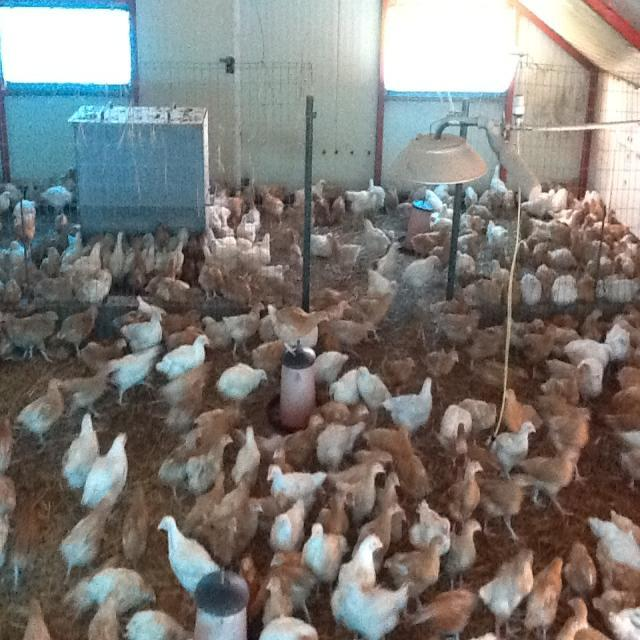poussin: (331, 531, 411, 638), (64, 565, 162, 623), (156, 514, 220, 598), (363, 418, 431, 496), (478, 546, 536, 636), (57, 500, 120, 580), (520, 550, 568, 640), (383, 534, 453, 594), (521, 446, 581, 516), (6, 496, 48, 592), (348, 501, 406, 570), (80, 433, 130, 512), (11, 378, 69, 446), (2, 300, 65, 362), (163, 358, 217, 429), (183, 429, 235, 502), (476, 470, 529, 540), (268, 547, 316, 624), (248, 414, 326, 461), (408, 587, 480, 637), (552, 405, 596, 485), (302, 520, 350, 592), (268, 302, 332, 356), (156, 428, 202, 503), (108, 343, 164, 404), (64, 410, 105, 493), (440, 518, 488, 588), (585, 506, 640, 565), (258, 458, 328, 504), (488, 418, 537, 481), (445, 456, 483, 534), (120, 477, 154, 564), (222, 491, 270, 552), (310, 420, 367, 471), (516, 319, 562, 382), (383, 374, 437, 426), (110, 302, 166, 352), (319, 312, 379, 358), (194, 509, 242, 565), (344, 288, 399, 336), (270, 495, 316, 552), (597, 557, 640, 617), (185, 470, 228, 530), (467, 317, 513, 373), (607, 407, 640, 485), (222, 298, 266, 356), (428, 307, 488, 349), (194, 400, 244, 450), (346, 462, 389, 520), (210, 468, 256, 522), (226, 423, 266, 484), (553, 596, 608, 640), (78, 332, 134, 375), (160, 331, 210, 379), (161, 306, 211, 354), (475, 359, 532, 401), (216, 364, 270, 408), (56, 304, 101, 356), (498, 388, 548, 434), (64, 367, 108, 418), (126, 232, 160, 298), (410, 502, 454, 552), (564, 538, 598, 600), (124, 612, 199, 640), (355, 362, 395, 413), (421, 346, 462, 395), (239, 228, 272, 288), (73, 232, 109, 286), (434, 421, 472, 471), (88, 589, 124, 640), (37, 262, 80, 304), (236, 553, 266, 613), (542, 359, 584, 400), (530, 240, 582, 273), (374, 472, 408, 522), (319, 485, 353, 535), (0, 473, 18, 567), (316, 397, 372, 427), (456, 396, 496, 438), (144, 264, 186, 304), (380, 353, 418, 397), (310, 343, 350, 384), (74, 264, 115, 304), (58, 227, 96, 270), (518, 213, 569, 244), (526, 182, 572, 216), (438, 398, 473, 442), (359, 215, 394, 259), (251, 338, 291, 376), (292, 172, 332, 210), (613, 356, 640, 412), (508, 316, 544, 358), (400, 254, 442, 290), (329, 364, 363, 408), (106, 228, 129, 292), (565, 335, 609, 368), (208, 226, 242, 268), (20, 593, 50, 640), (262, 576, 292, 623), (332, 234, 364, 278), (210, 188, 244, 229), (360, 270, 400, 304), (606, 314, 636, 359), (204, 307, 233, 353), (564, 336, 608, 366), (602, 270, 640, 304), (469, 268, 503, 306), (576, 356, 606, 398), (606, 604, 640, 640), (482, 220, 514, 258), (0, 416, 19, 479), (0, 242, 31, 280), (165, 234, 192, 277), (41, 180, 73, 216), (566, 228, 598, 263), (260, 182, 288, 222), (316, 295, 352, 326), (12, 200, 38, 242), (550, 270, 580, 306), (198, 264, 227, 300), (0, 178, 23, 220), (518, 268, 542, 308), (258, 256, 288, 288), (0, 272, 29, 305), (588, 237, 612, 276), (349, 188, 378, 220), (196, 236, 222, 271), (36, 244, 62, 279), (362, 178, 387, 212), (534, 260, 554, 302), (238, 202, 258, 244), (152, 233, 172, 275), (585, 307, 610, 339), (604, 210, 629, 242), (308, 232, 337, 259), (578, 186, 604, 216), (426, 180, 452, 210), (452, 244, 474, 278), (613, 248, 635, 280), (312, 186, 330, 224), (577, 272, 598, 304), (620, 232, 640, 265), (455, 228, 483, 251), (488, 258, 509, 288), (497, 187, 518, 217), (502, 270, 519, 306), (458, 212, 488, 232), (413, 232, 443, 252), (581, 212, 604, 236), (328, 192, 347, 220), (469, 200, 496, 218), (429, 214, 453, 234), (516, 240, 534, 266), (438, 202, 458, 224), (476, 188, 494, 212), (492, 161, 504, 193), (464, 185, 480, 208)
